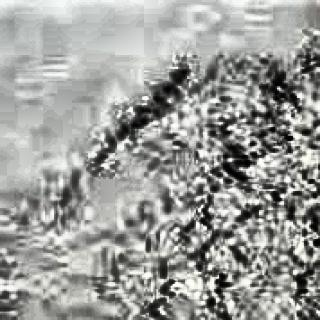crack: (189, 50, 320, 320), (88, 51, 214, 177), (144, 253, 180, 320)
